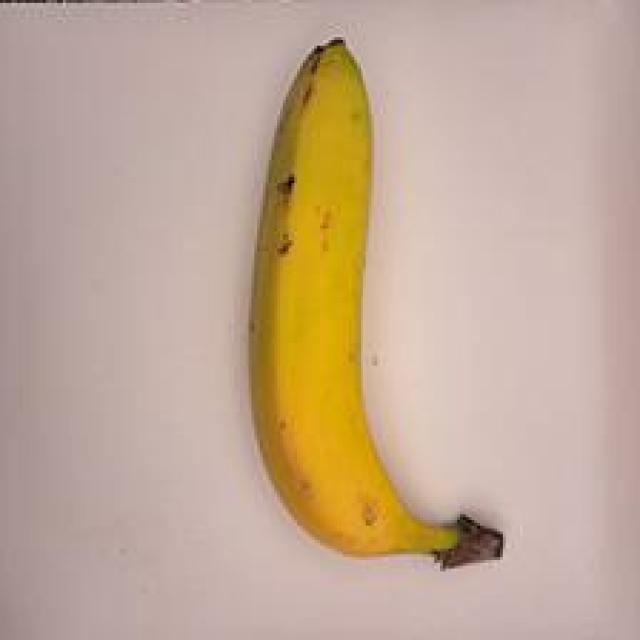Ripe: (230, 29, 532, 591)
